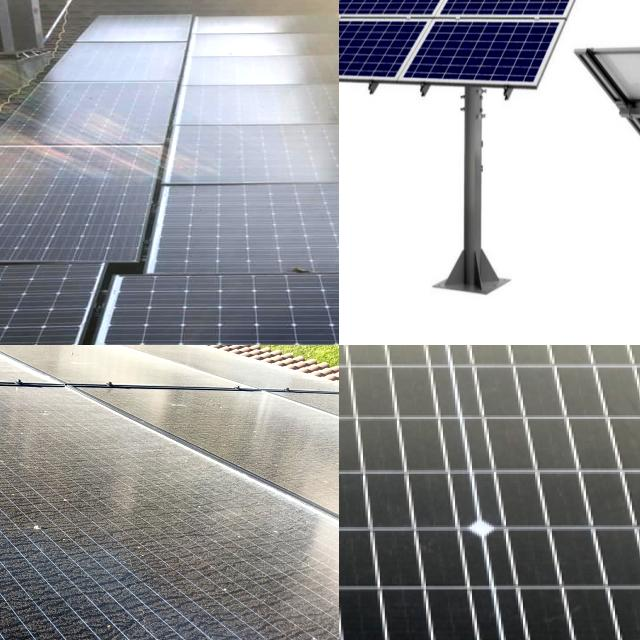crack: (339, 345, 640, 640), (339, 0, 640, 144)
dust: (131, 476, 258, 588), (0, 472, 119, 588), (104, 291, 313, 345), (233, 399, 323, 494), (0, 540, 84, 640), (0, 403, 63, 530), (0, 392, 66, 460), (52, 396, 108, 466), (0, 305, 83, 345), (0, 475, 18, 529)
